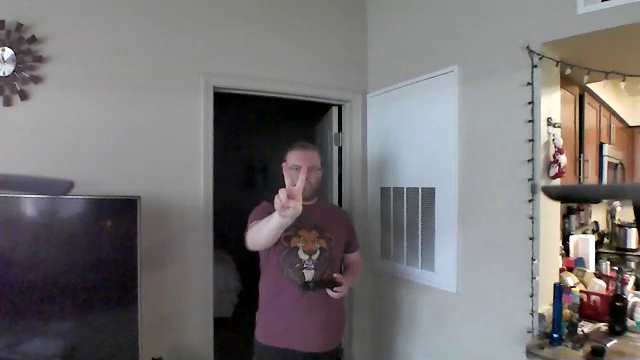peace: (267, 157, 317, 221)
